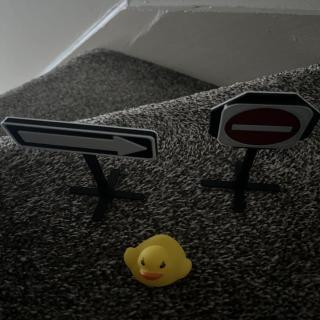duck_regular: (125, 236, 194, 290)
sign_noentry: (210, 93, 320, 151)
sign_oneway_right: (2, 118, 160, 161)
